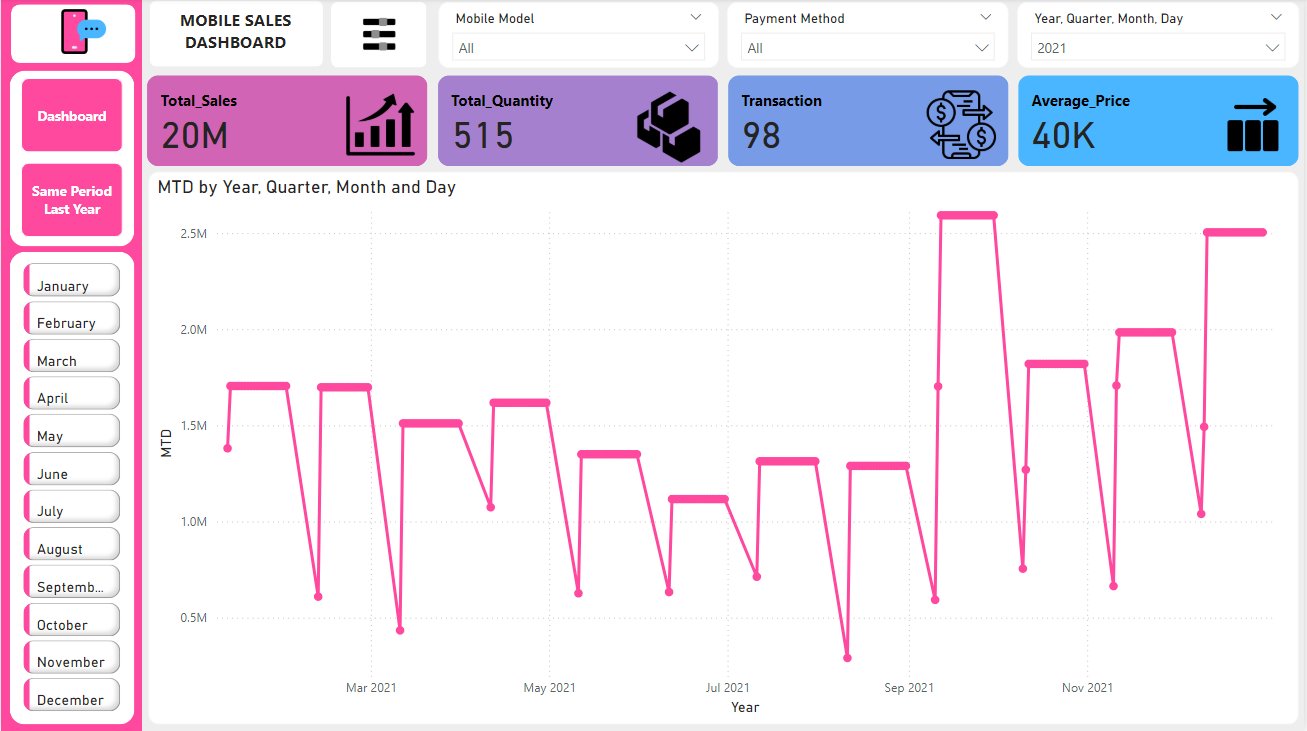

This screenshot's page, from the dashboard's own definition file:
{"tool":"powerbi","page":{"name":"MTD Report","canvas":[1280,720],"ordinal":1},"visuals":[{"type":"shape","box":[0,0,138.8,720],"z":0},{"type":"shape","box":[9.4,6.7,122.2,57.8],"z":1000},{"type":"image","box":[52.5,6.2,56.2,53.8],"z":2000},{"type":"cardVisual","fields":{"Data":["Mobile_Sales_Data.Total_Sales","Mobile_Sales_Data.Total_Quantity","Mobile_Sales_Data.Transaction","Mobile_Sales_Data.Average_Price"]},"box":[138.7,70.7,1141.3,99.3],"z":3000},{"type":"shape","box":[8.9,70.6,122.2,172.8],"z":4000},{"type":"shape","box":[9.2,249.2,122.5,464.2],"z":5000},{"type":"advancedSlicerVisual","fields":{"Values":["Custom_calender.Date.Variation.Date Hierarchy.Month"]},"box":[17.5,255,105,457.5],"z":6000},{"type":"slicer","fields":{"Values":["Mobile_Sales_Data.Mobile Model"]},"box":[428.9,3.3,275,64.4],"z":7000},{"type":"slicer","fields":{"Values":["Mobile_Sales_Data.Payment Method"]},"box":[713.3,3.9,276.1,65],"z":8000},{"type":"slicer","fields":{"Values":["Custom_calender.Date.Variation.Date Hierarchy.Year","Custom_calender.Date.Variation.Date Hierarchy.Quarter","Custom_calender.Date.Variation.Date Hierarchy.Month","Custom_calender.Date.Variation.Date Hierarchy.Day"]},"box":[997.2,3.3,276.7,64.4],"z":9000},{"type":"shape","box":[323.9,3.3,93.9,64.4],"z":10000},{"type":"shape","box":[145.6,2.8,170,65],"z":11000},{"type":"textbox","box":[150,5,161.1,56.1],"z":12000},{"type":"image","box":[349.4,15,43.9,41.7],"z":13000},{"type":"lineChart","title":"MTD by Year, Quarter, Month and Day","fields":{"Y":["Mobile_Sales_Data.MTD"],"Category":["Custom_calender.Date.Variation.Date Hierarchy.Year","Custom_calender.Date.Variation.Date Hierarchy.Quarter","Custom_calender.Date.Variation.Date Hierarchy.Month","Custom_calender.Date.Variation.Date Hierarchy.Day"]},"box":[144.8,170.6,1128.8,542.3],"z":14000},{"type":"pageNavigator","box":[20,78.8,100,156.2],"z":15000}]}

Visuals, with their boxes in screenshot pixels (x1, y1, x2, y2), scaled from the page's 1280x720 canvas onto the 1307x731 screenshot:
shape: [left=0, top=0, right=142, bottom=730]
shape: [left=10, top=7, right=134, bottom=65]
image: [left=54, top=6, right=111, bottom=61]
cardVisual - Mobile_Sales_Data.Total_Sales x Mobile_Sales_Data.Total_Quantity: [left=142, top=72, right=1306, bottom=173]
shape: [left=9, top=72, right=134, bottom=247]
shape: [left=9, top=253, right=134, bottom=724]
advancedSlicerVisual - Custom_calender.Date.Variation.Date Hierarchy.Month: [left=18, top=259, right=125, bottom=723]
slicer - Mobile_Sales_Data.Mobile Model: [left=438, top=3, right=719, bottom=69]
slicer - Mobile_Sales_Data.Payment Method: [left=728, top=4, right=1010, bottom=70]
slicer - Custom_calender.Date.Variation.Date Hierarchy.Year x Custom_calender.Date.Variation.Date Hierarchy.Quarter: [left=1018, top=3, right=1301, bottom=69]
shape: [left=331, top=3, right=427, bottom=69]
shape: [left=149, top=3, right=322, bottom=69]
textbox: [left=153, top=5, right=318, bottom=62]
image: [left=357, top=15, right=402, bottom=58]
"MTD by Year, Quarter, Month and Day" lineChart: [left=148, top=173, right=1300, bottom=724]
pageNavigator: [left=20, top=80, right=123, bottom=239]
